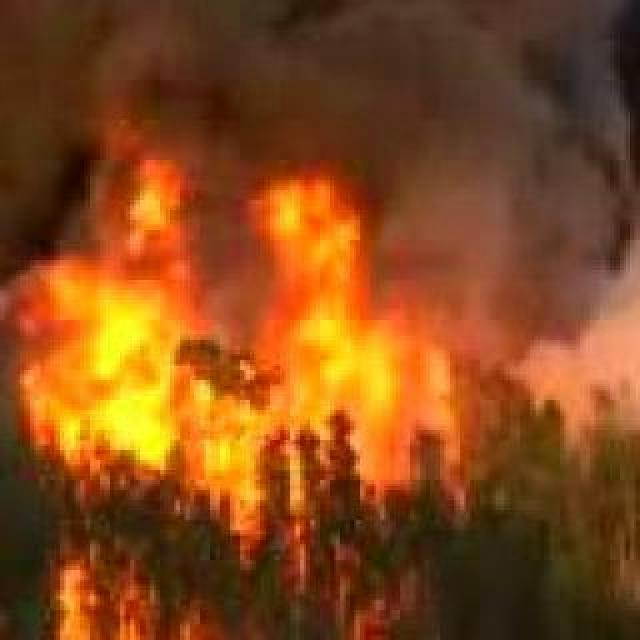fire: (0, 126, 544, 640)
